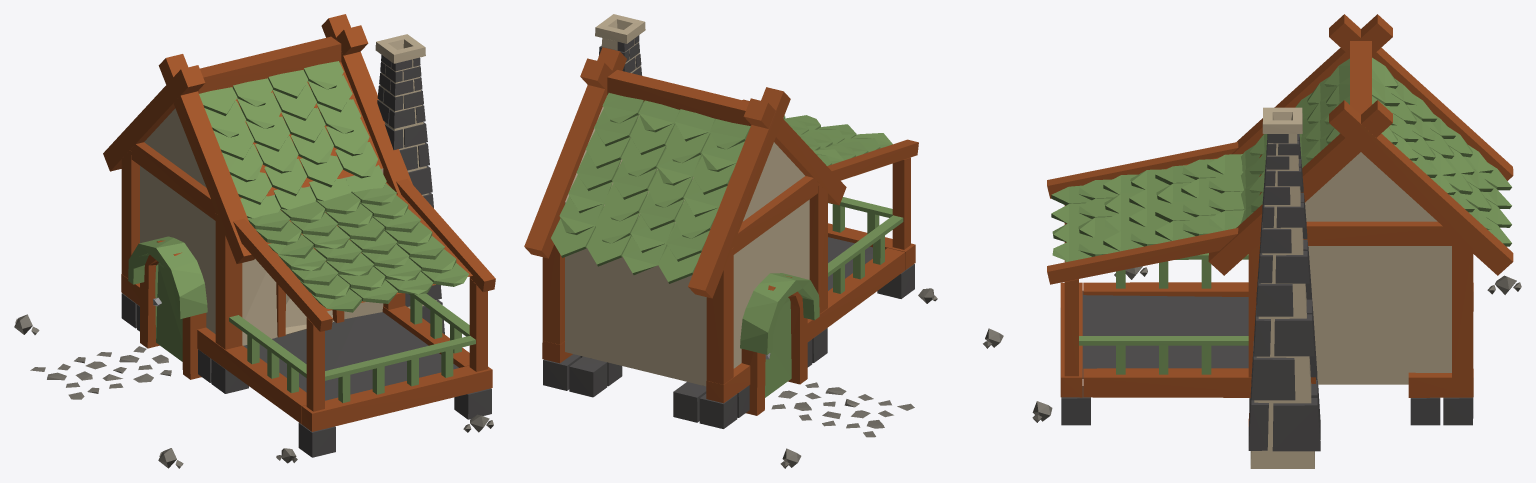
File: casa-campo.glb
The picture shows the model from 3 angles, left to right: view 1: azimuth 30°, elevation 25°; view 2: azimuth 150°, elevation 25°; view 3: azimuth 270°, elevation 25°; orthographic projection. The views are drawn at different scales.
Parts seen in each view (by area): view 1: casa-campo; view 2: casa-campo; view 3: casa-campo.
Boxes of the visible parts, left/top/right/bottom form: casa-campo: left=14, top=14, right=495, bottom=468; casa-campo: left=524, top=14, right=1003, bottom=468; casa-campo: left=1032, top=14, right=1521, bottom=468.
Size of the model in its own units: 0.8729 by 0.7679 by 1.
